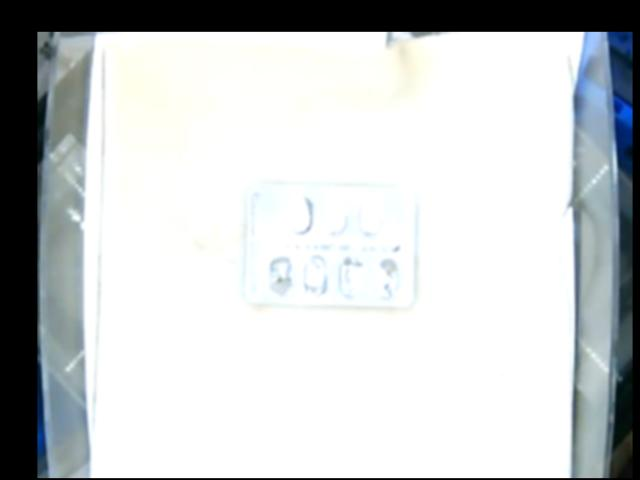Medicine: (244, 183, 417, 304)
